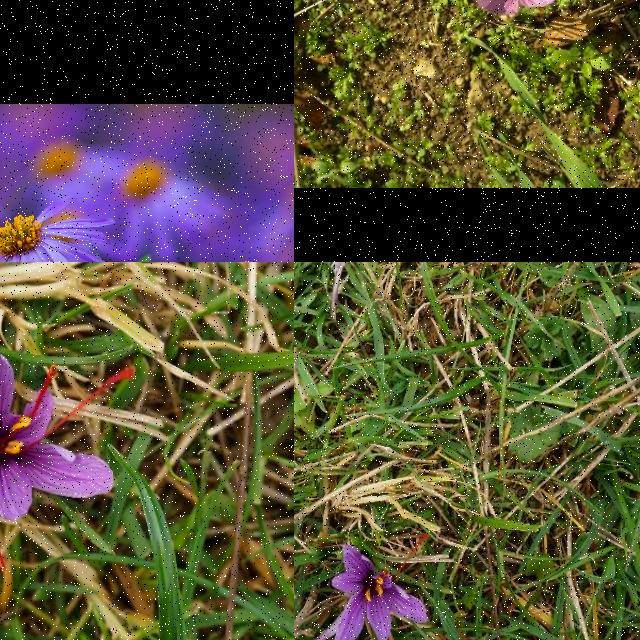flower: (0, 308, 135, 574), (332, 532, 430, 640)
